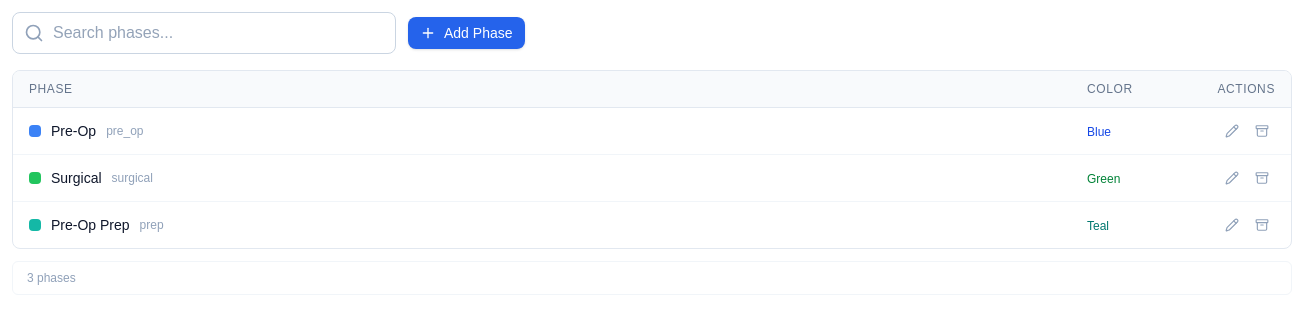
Test case: PhaseLibrary › search › shows "no match" message when search has no results
This screenshot has width=1292, height=312.
Type "zzzzzzz" into the field with placeholder "Search phases...".
click(204, 33); type("zzzzzzz")  # box [12,12,396,54]
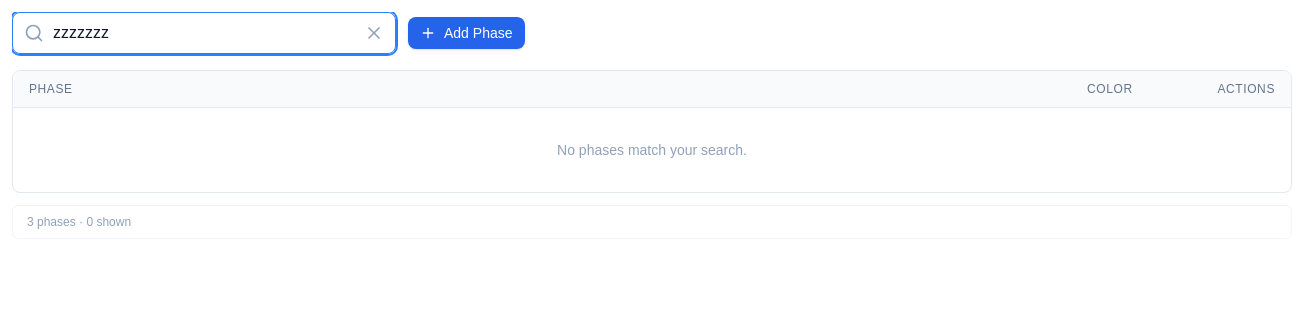
Result: the text "No phases match your search." is shown at [557,142,747,158]
